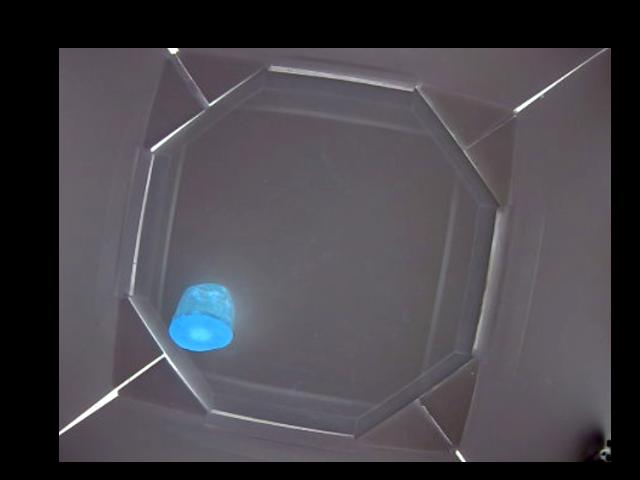Carrot: (167, 282, 235, 352)
